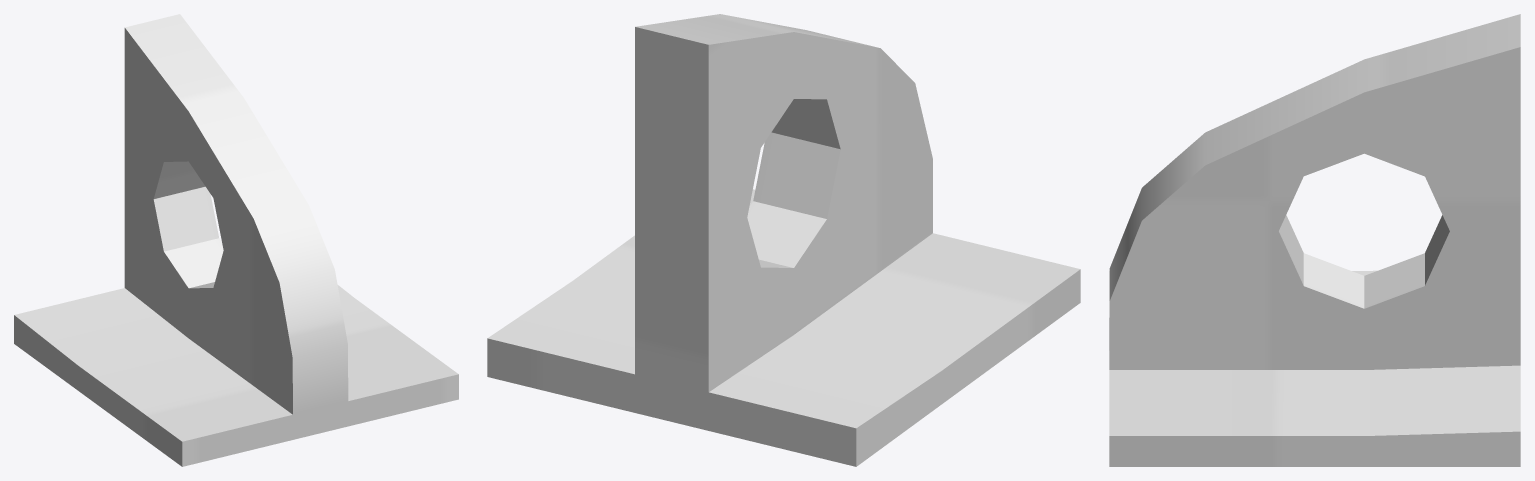
The model's file is enginehall_struss_end.fbx.
The picture shows the model from 3 angles, left to right: view 1: azimuth 30°, elevation 25°; view 2: azimuth 150°, elevation 25°; view 3: azimuth 270°, elevation 25°; orthographic projection. The views are drawn at different scales.
Visible parts, largest first — view 1: enginehall_struss_end; view 2: enginehall_struss_end; view 3: enginehall_struss_end.
Boxes of the visible parts, x1,y1,x2,y2 form: enginehall_struss_end: (14, 14, 458, 466); enginehall_struss_end: (487, 14, 1080, 466); enginehall_struss_end: (1109, 14, 1520, 466).
Size of the model in its own units: 50 by 50 by 52.64.
